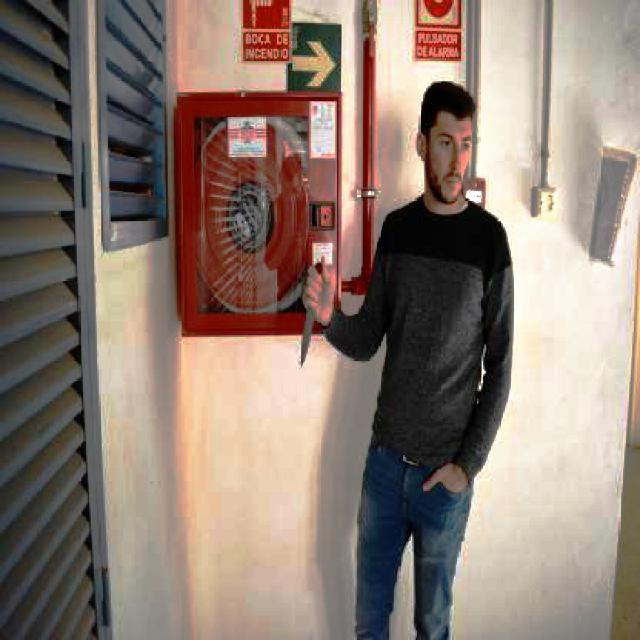Knife: (295, 282, 327, 366)
